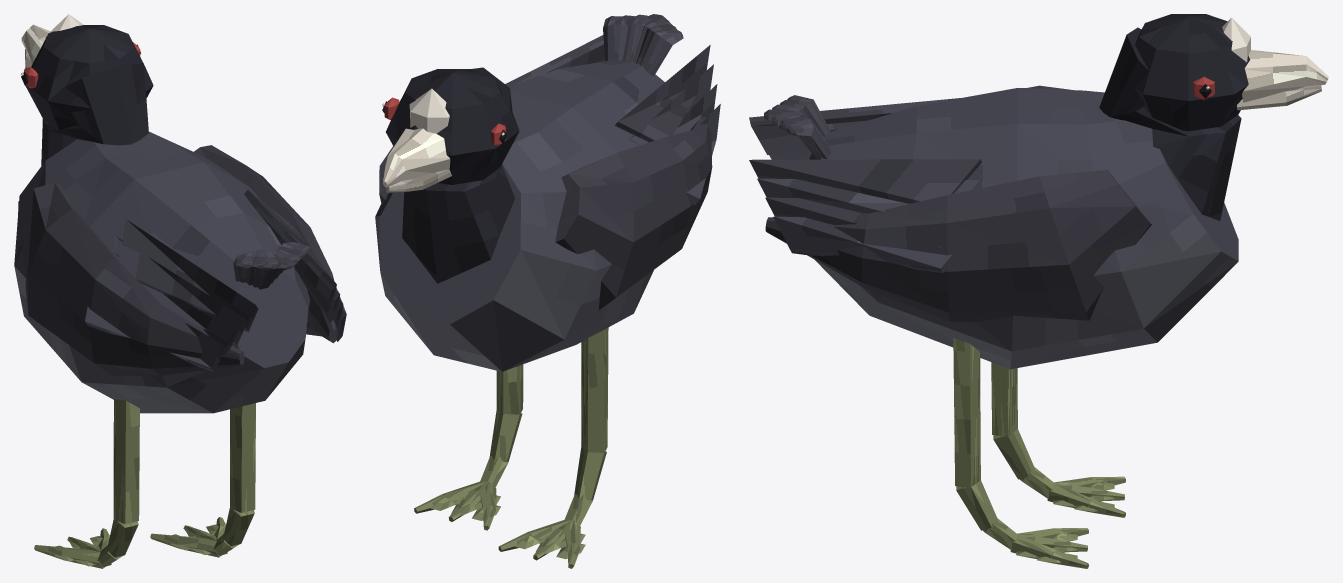
The model's file is mon_coot.glb.
The picture shows the model from 3 angles, left to right: view 1: azimuth 30°, elevation 25°; view 2: azimuth 150°, elevation 25°; view 3: azimuth 270°, elevation 25°; orthographic projection. The views are drawn at different scales.
Visible parts, largest first — view 1: closed_body; view 2: closed_body; view 3: closed_body.
Boxes of the visible parts, box(x1,y1,x2,y2) form: closed_body: box(14, 14, 346, 568); closed_body: box(375, 14, 720, 568); closed_body: box(749, 14, 1328, 568).
Size of the model in its own units: 0.1292 by 0.2457 by 0.2527.
Materials: 1 (1 with a texture image).
